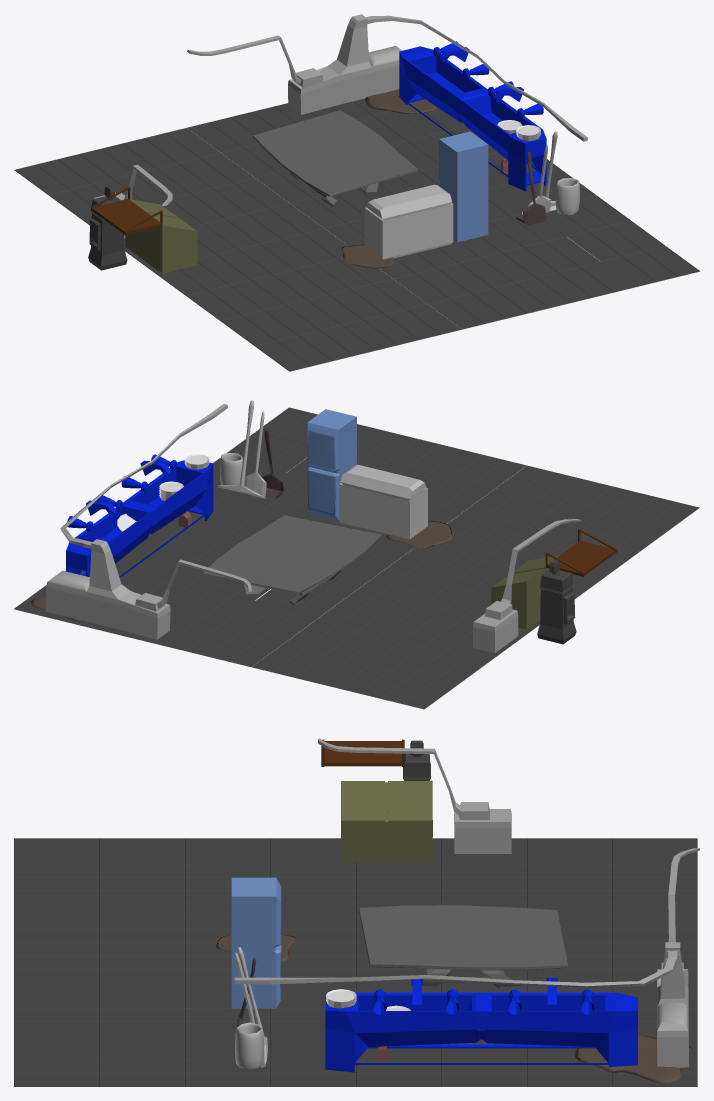
Rendered from cocina.fbx.
3 renders of one model, top to bottom at view 1: azimuth 30°, elevation 25°; view 2: azimuth 150°, elevation 25°; view 3: azimuth 270°, elevation 25°, orthographic. The views are drawn at different scales.
Visible parts, largest first — view 1: Piso, Lavaplatos, Mesa, polySurface87, Conservadora, Healdera, Congelador, Maquina, Tabla, Charco2, Balde, Charco1 (+2 smaller); view 2: Piso, Mesa, polySurface87, Lavaplatos, Conservadora, Healdera, polySurface86, Maquina, Congelador, Tabla, Charco1, Balde (+3 smaller); view 3: Piso, Lavaplatos, Mesa, Congelador, polySurface87, Healdera, polySurface86, Charco2, Tabla, Balde, Maquina.
Part boxes in pixels (x1,y1,x2,y2): Piso: (14, 98, 699, 371); Lavaplatos: (399, 41, 546, 191); Mesa: (253, 110, 417, 206); polySurface87: (187, 14, 587, 141); Conservadora: (364, 184, 453, 259); Healdera: (439, 131, 488, 242); Congelador: (125, 198, 197, 273); Maquina: (88, 185, 127, 270); Tabla: (92, 199, 161, 233); Charco2: (365, 89, 438, 113); Balde: (555, 178, 580, 214); Charco1: (340, 244, 393, 268); Piso: (14, 407, 699, 709); Mesa: (203, 515, 381, 605); polySurface87: (45, 404, 251, 639); Lavaplatos: (66, 454, 213, 577); Conservadora: (339, 464, 427, 539); Healdera: (307, 409, 356, 519); polySurface86: (473, 519, 581, 652); Maquina: (537, 559, 576, 644); Congelador: (491, 555, 559, 629); Tabla: (546, 540, 615, 575); Charco1: (386, 521, 452, 549); Balde: (220, 453, 242, 489); Piso: (14, 838, 697, 1086); Lavaplatos: (325, 978, 637, 1072); Mesa: (358, 905, 568, 989); Congelador: (341, 780, 432, 862); polySurface87: (234, 848, 699, 1067); Healdera: (231, 877, 281, 1008); polySurface86: (318, 738, 511, 853); Charco2: (574, 1034, 691, 1083); Tabla: (324, 741, 401, 766); Balde: (235, 1022, 263, 1069); Maquina: (403, 740, 432, 836).
Bounding box in the file's own units: 1446 × 317 × 1532.
